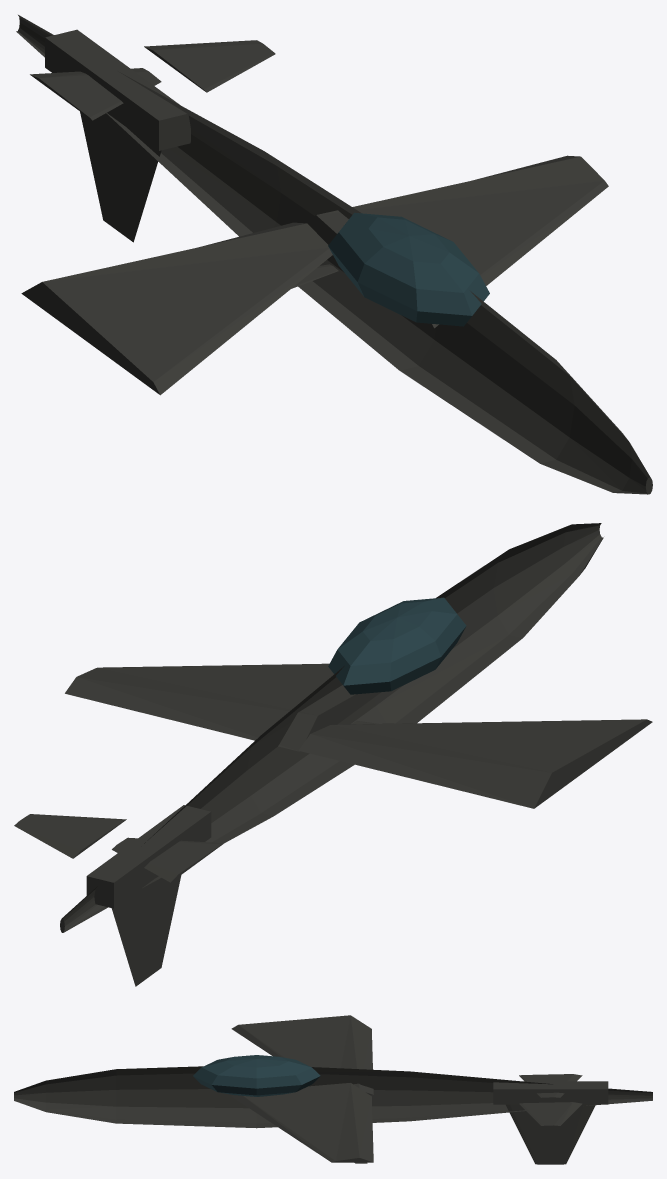
The model's file is jaguar_Destroyed.glb.
3 views of the same model, one above another, from view 1: azimuth 30°, elevation 25°; view 2: azimuth 150°, elevation 25°; view 3: azimuth 270°, elevation 25° (orthographic). The views are drawn at different scales.
Parts seen in each view (by area): view 1: Fuselage, Wing_L, Wing_R, Cockpit, TailBoom, Rudder, Elevator_R, Elevator_L; view 2: Fuselage, Wing_L, Wing_R, Cockpit, TailBoom, Rudder, Elevator_R, Elevator_L; view 3: Fuselage, Wing_R, Wing_L, Cockpit, Rudder, TailBoom, Elevator_R, Elevator_L.
Part boxes in pixels (box(x1,y1,x2,y2)): Fuselage: box(16, 15, 652, 494); Wing_L: box(21, 222, 332, 395); Wing_R: box(302, 155, 608, 328); Cockpit: box(328, 212, 489, 326); TailBoom: box(45, 29, 190, 150); Rudder: box(80, 111, 161, 242); Elevator_R: box(144, 40, 275, 92); Elevator_L: box(30, 68, 161, 120); Fuselage: box(60, 523, 603, 932); Wing_L: box(299, 719, 652, 808); Wing_R: box(65, 663, 381, 751); Cockpit: box(328, 597, 466, 694); TailBoom: box(86, 805, 211, 908); Rudder: box(111, 875, 181, 986); Elevator_R: box(14, 814, 126, 858); Elevator_L: box(112, 837, 223, 882); Fuselage: box(14, 1066, 652, 1128); Wing_R: box(231, 1083, 373, 1162); Wing_L: box(231, 1015, 373, 1094); Cockpit: box(193, 1055, 320, 1096); Rudder: box(506, 1104, 595, 1164); TailBoom: box(493, 1081, 608, 1104); Elevator_R: box(519, 1102, 582, 1125); Elevator_L: box(519, 1074, 582, 1097).
Size of the model in its own units: 8.35 by 3.04 by 16.7.
